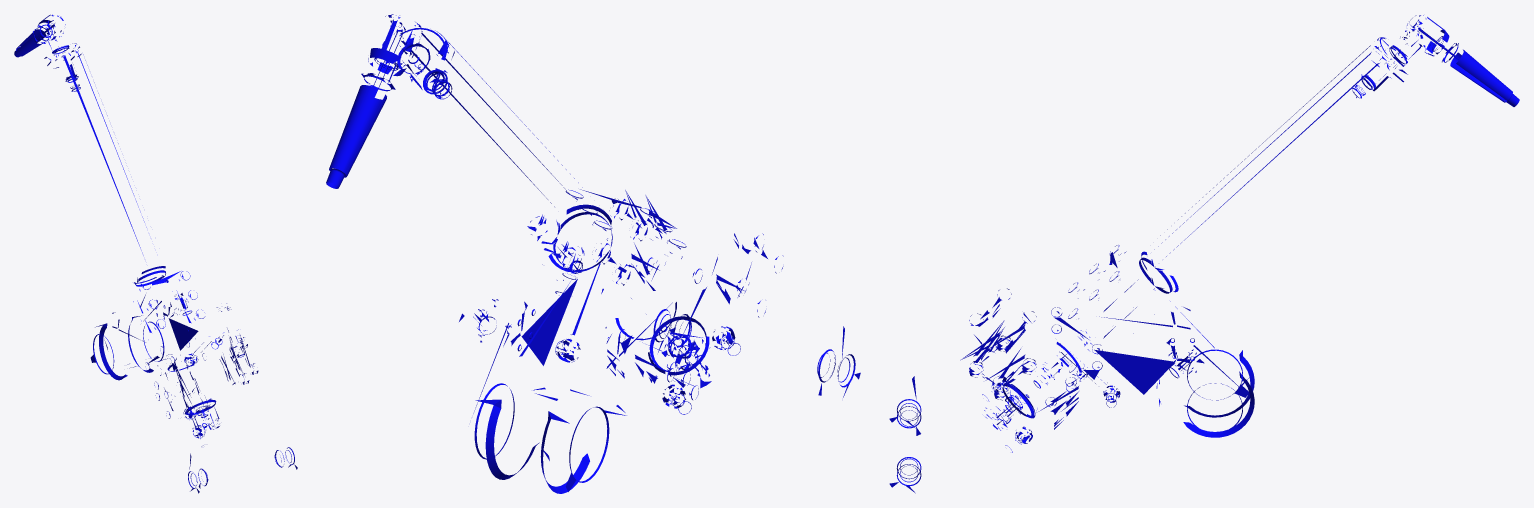
File: F266820012936_003_fester_Arm_Rep.dae
The picture shows the model from 3 angles, left to right: view 1: azimuth 30°, elevation 25°; view 2: azimuth 150°, elevation 25°; view 3: azimuth 270°, elevation 25°; orthographic projection. The views are drawn at different scales.
Visible parts, largest first — view 1: F266820012936_003_fester_Arm; view 2: F266820012936_003_fester_Arm; view 3: F266820012936_003_fester_Arm.
Boxes of the visible parts, x1,y1,x2,y2 form: F266820012936_003_fester_Arm: [14, 14, 297, 493]; F266820012936_003_fester_Arm: [326, 14, 860, 493]; F266820012936_003_fester_Arm: [889, 15, 1519, 493].
Size of the model in its own units: 187 by 714 by 558.
